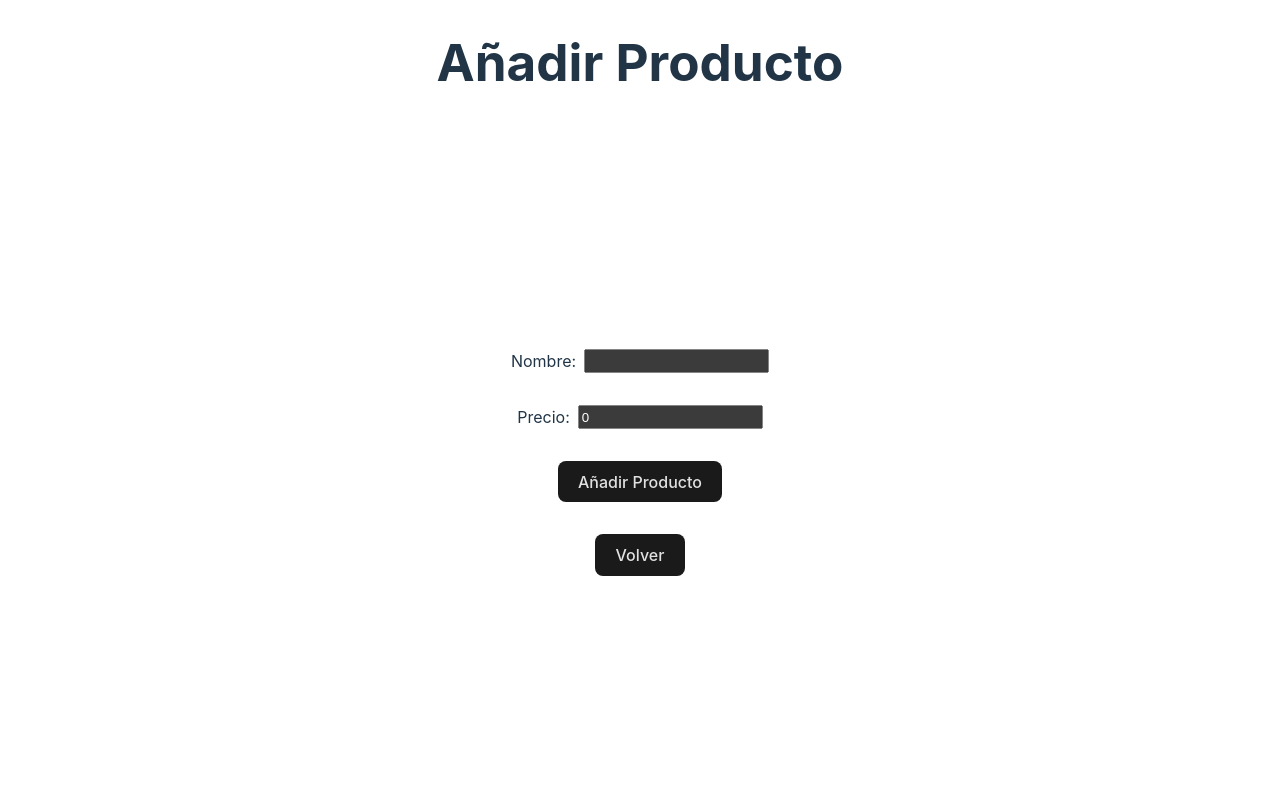
Test case: AddProduct › should add a product to the list and show a success message
The image size is (1280, 800).
In the field labelled "Nombre:": (677, 361) [584,349,769,373], type "Product 1"
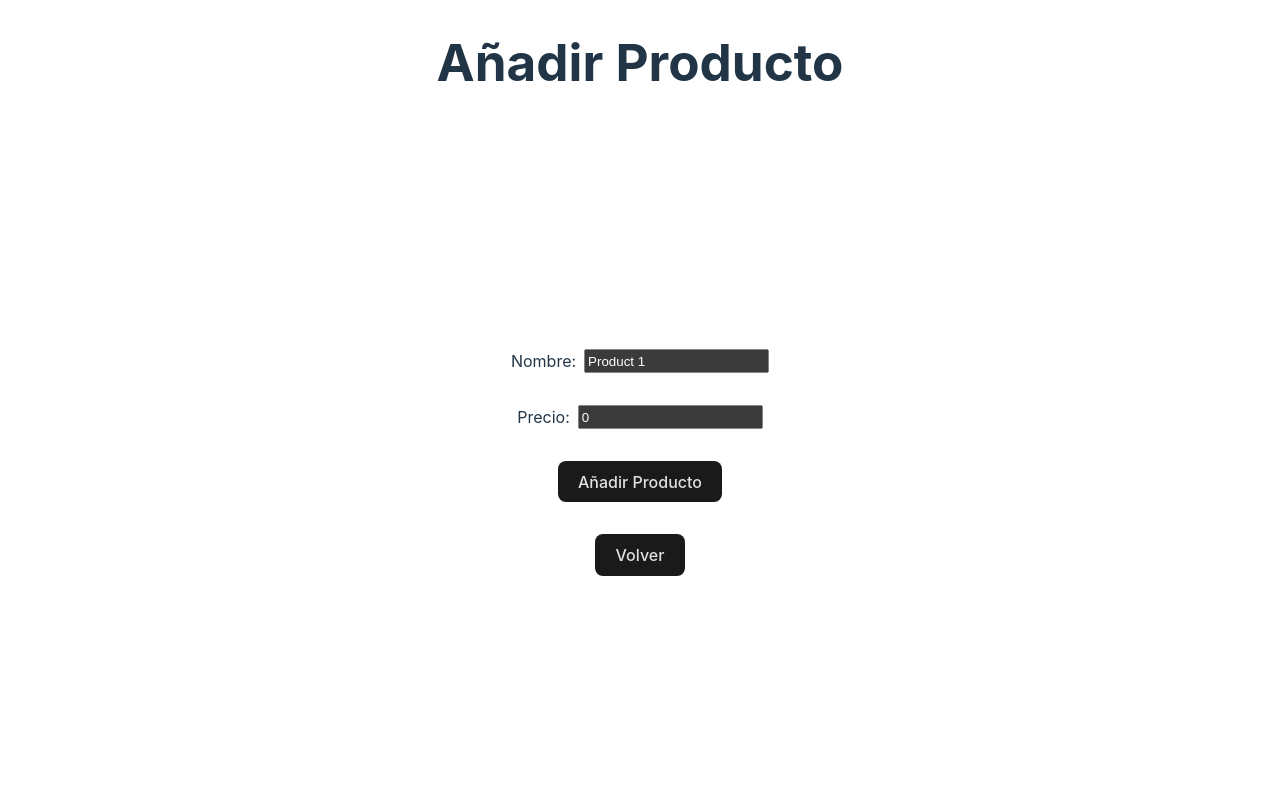
Replace the text in the number field labelled "Precio:" with "100": (670, 417) [578,405,763,429]
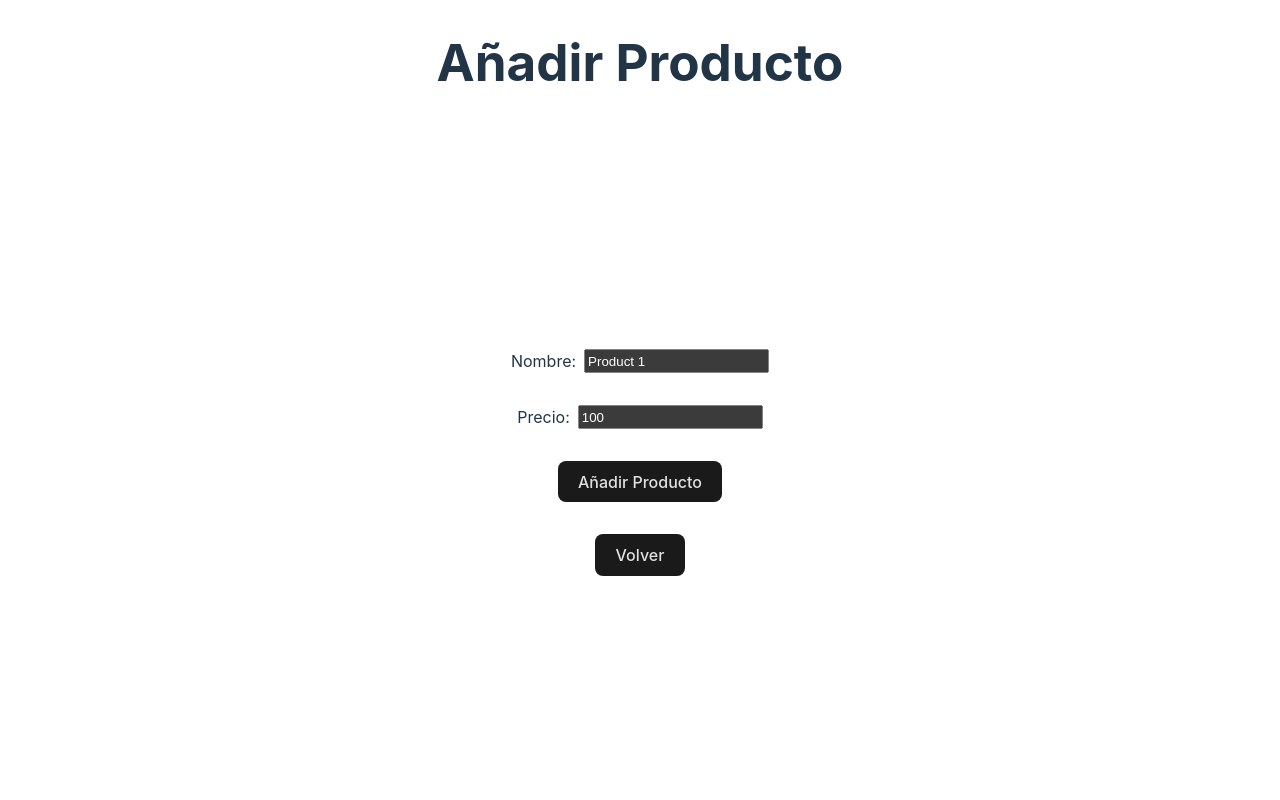
Click the button "Añadir Producto": (640, 482) [558,461,722,502]
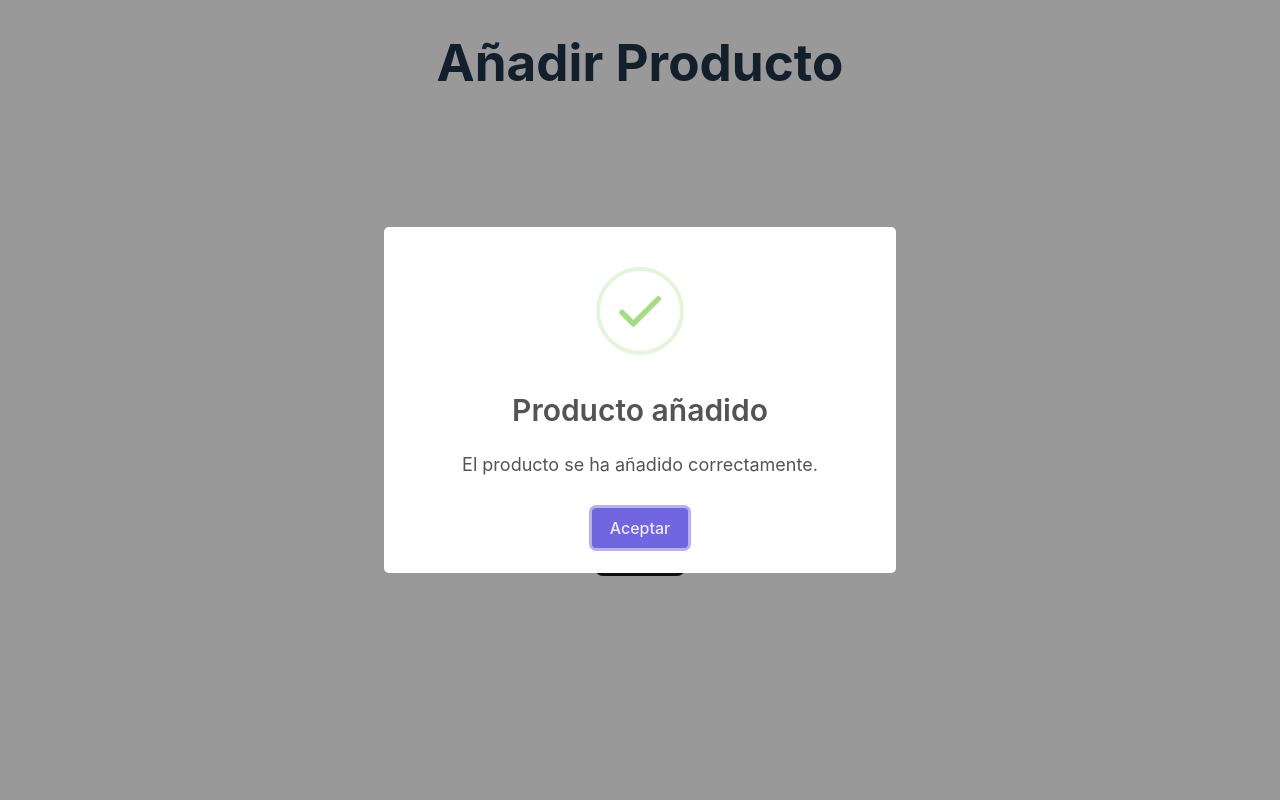
Result: the heading "Producto añadido" is shown at [512,392,768,428]
